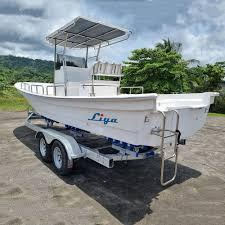fishing boat: (13, 14, 221, 148)
